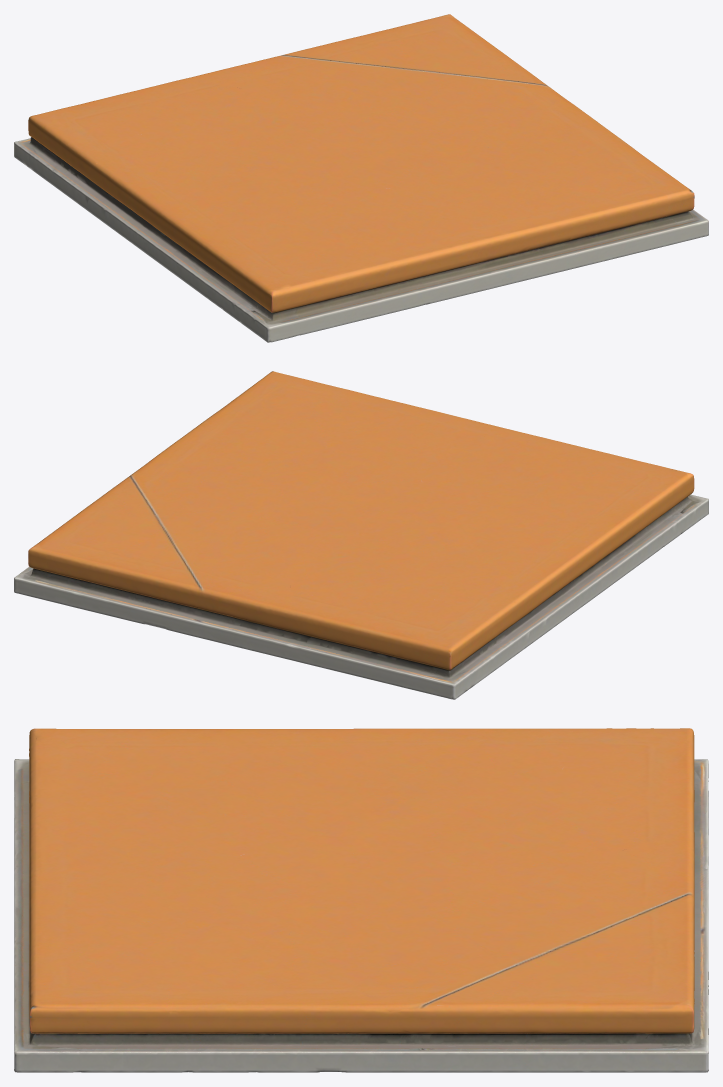
File: DefaultSpaceFloor.glb
3 views of the same model, one above another, from view 1: azimuth 30°, elevation 25°; view 2: azimuth 150°, elevation 25°; view 3: azimuth 270°, elevation 25° (orthographic). The views are drawn at different scales.
Size of the model in its own units: 2 by 0.1935 by 2.
Materials: 1 (1 with a texture image).
